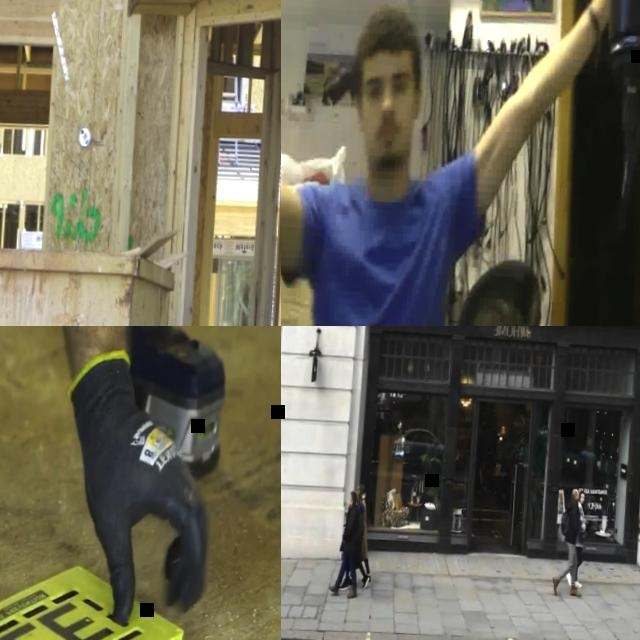NO-Hardhat: (357, 7, 417, 65), (358, 482, 367, 494), (351, 489, 358, 500), (357, 491, 362, 501), (572, 488, 579, 495), (581, 489, 587, 496)
NO-Mask: (366, 118, 410, 170), (349, 496, 354, 507), (576, 496, 581, 503), (582, 498, 586, 504)
NO-Safety Vest: (307, 189, 459, 326), (346, 509, 362, 559), (565, 507, 582, 544), (360, 497, 371, 547), (356, 507, 365, 553), (579, 508, 588, 548)
Person: (281, 0, 624, 326), (0, 326, 232, 640), (552, 487, 591, 598), (330, 491, 365, 601), (341, 492, 376, 592), (350, 480, 380, 589), (567, 487, 590, 590)
